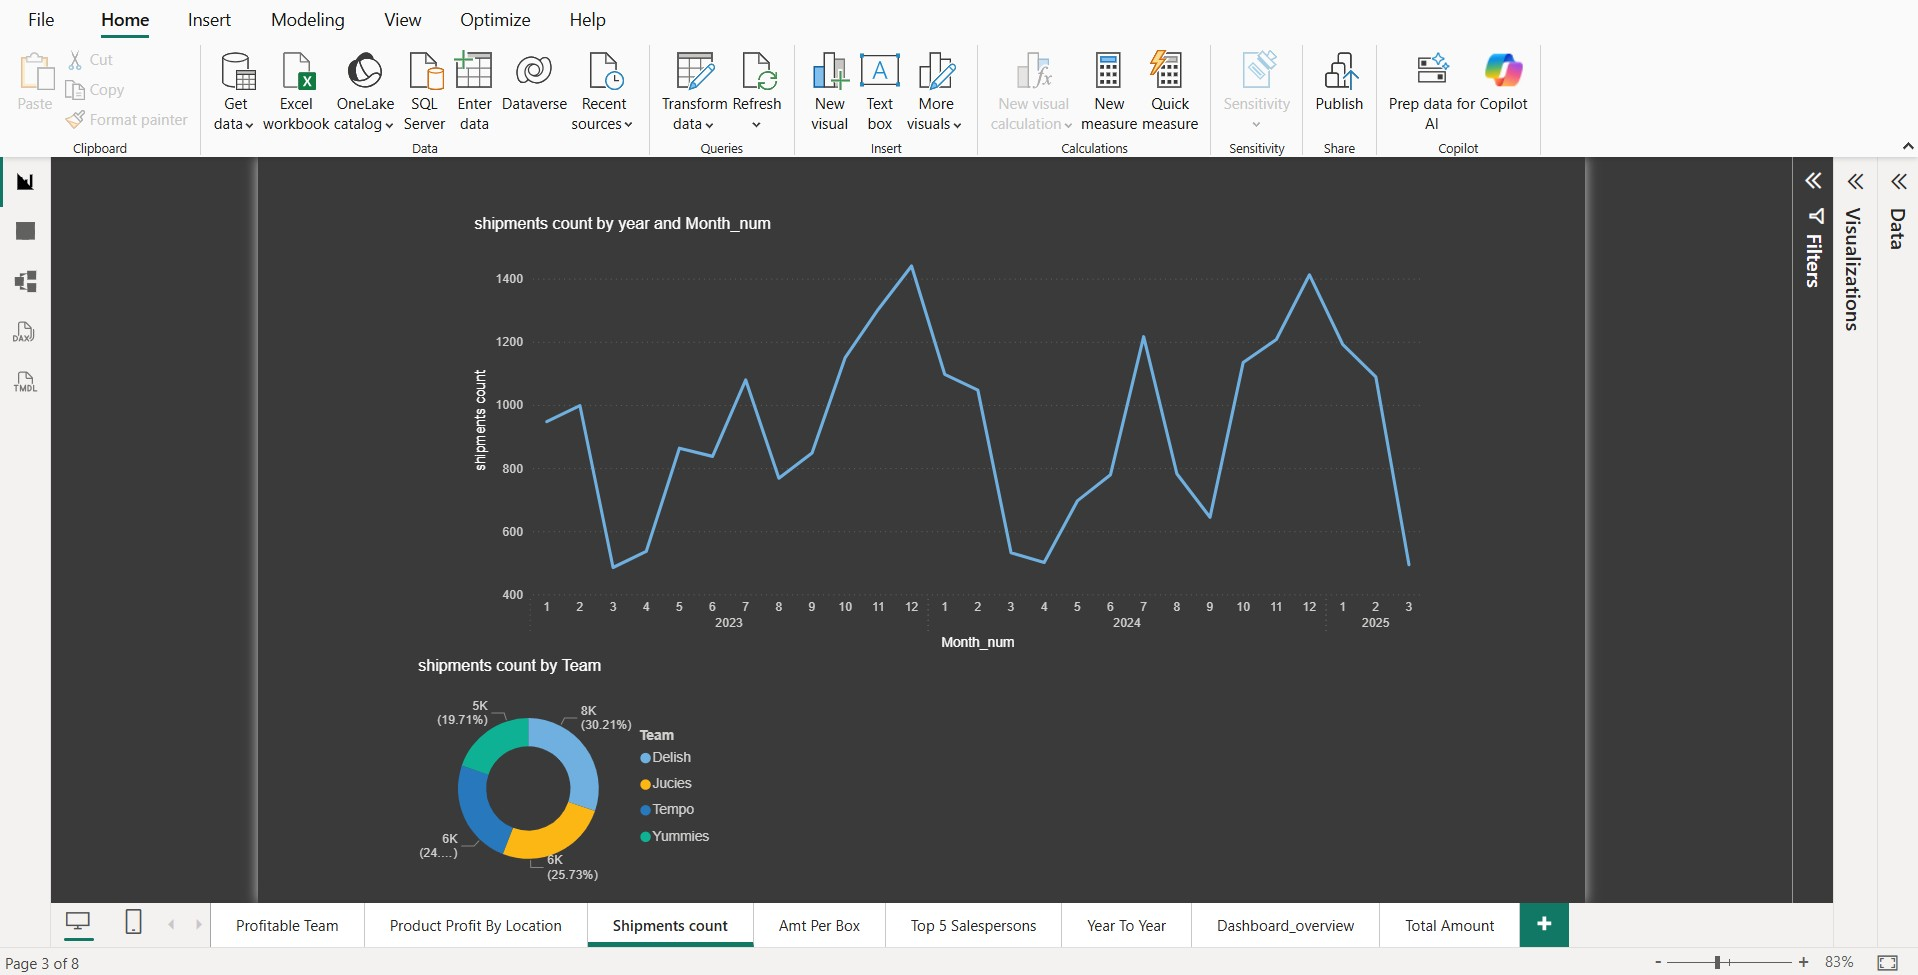

Layout of this report page (visuals, bound fields, positions):
{"tool":"powerbi","page":{"name":"Shipments count","canvas":[1280,720],"ordinal":2},"visuals":[{"type":"lineChart","fields":{"Y":["shipments.shipments count"],"Category":["calendar.year","calendar.Month_num"]},"box":[204.3,55.4,925,426],"z":0},{"type":"donutChart","fields":{"Category":["people.Team"],"Y":["shipments.shipments count"]},"box":[150,481,300,239],"z":1000}]}

Visuals, with their boxes on the page's 1280x720 design canvas (x1, y1, x2, y2). These are canvas units, not pixel positions in the 1918x975 screenshot, which may show the page scaled, cropped or inside an application window:
lineChart - shipments.shipments count x calendar.year: locate(204, 55, 1129, 481)
donutChart - people.Team x shipments.shipments count: locate(150, 481, 450, 720)
